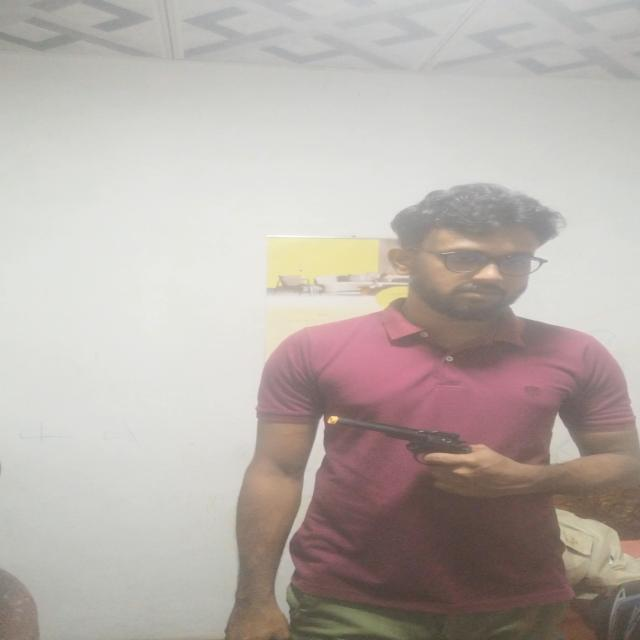Gun_Holder: (310, 405, 516, 497)
Person: (218, 182, 640, 640)
